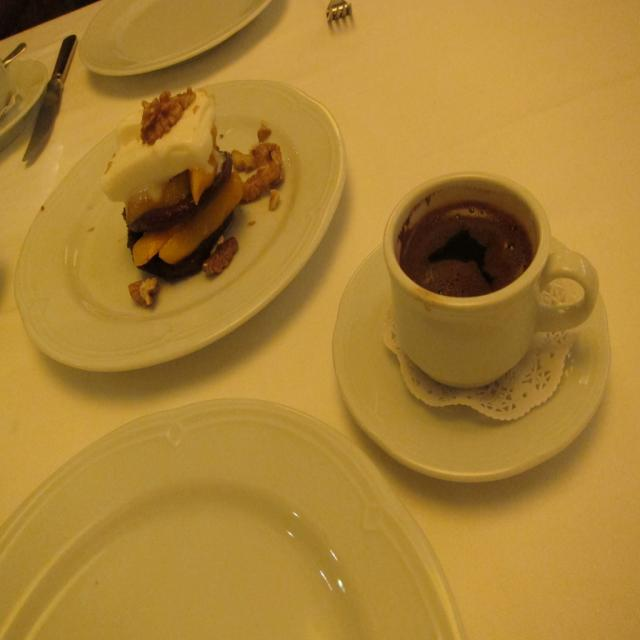non-organic waste: (28, 85, 341, 405), (327, 205, 606, 482)
